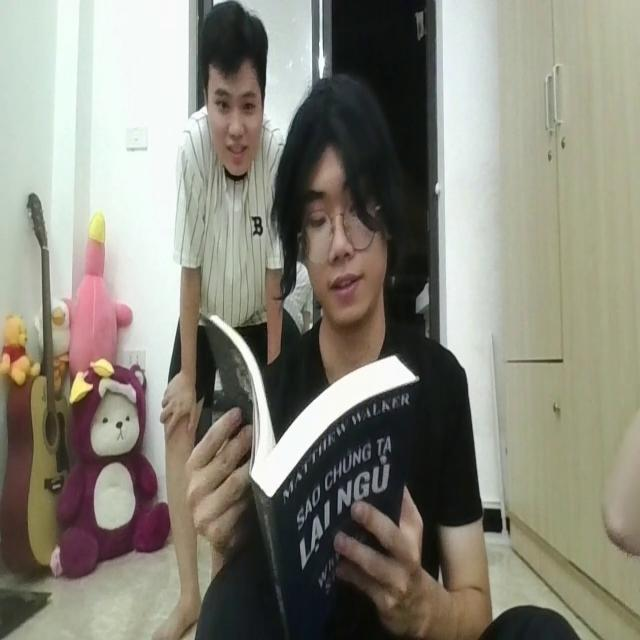book: (200, 298, 419, 632)
extra_person: (159, 2, 294, 402)
student: (210, 72, 493, 640)
